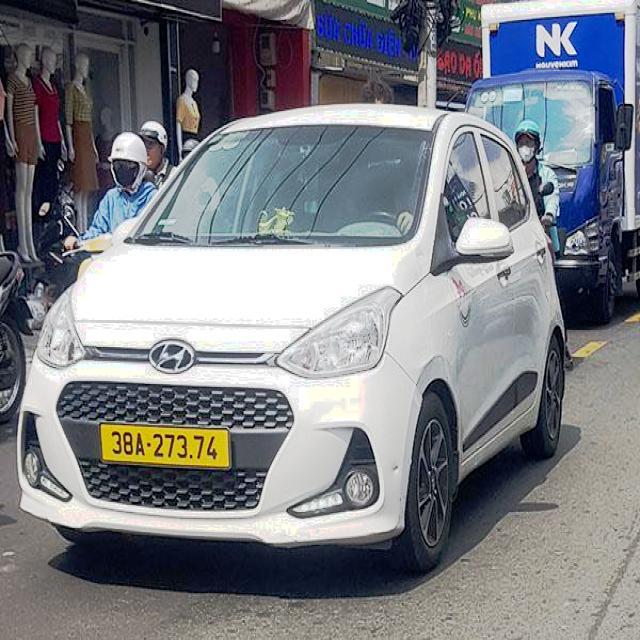license_plate: (100, 424, 231, 469)
